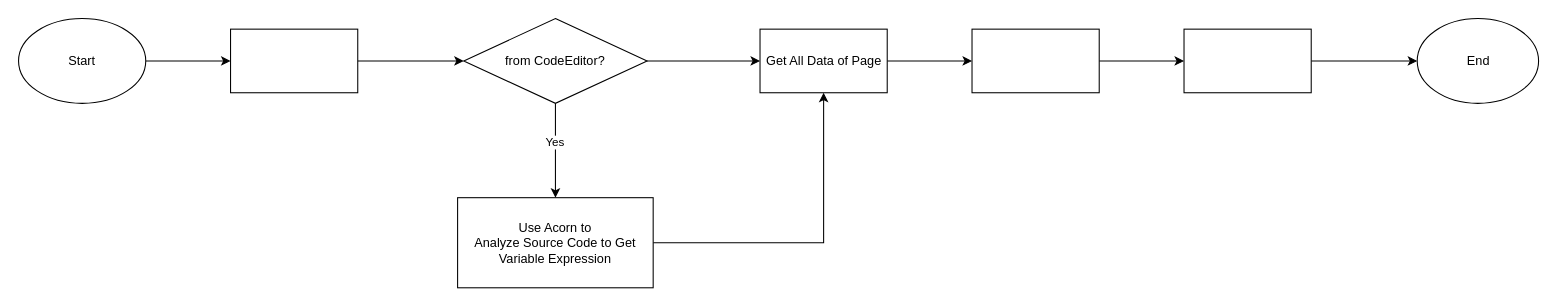
This 1557x306 diagram has some shape labels left out. The centre of each missing label's shape, as x and y in pixels:
"Mouse Over Variable Expression" belongs at point (293, 60).
"Render PeekOverlay" belongs at point (1247, 60).
"Try Get Expression Value" belongs at point (1035, 60).
